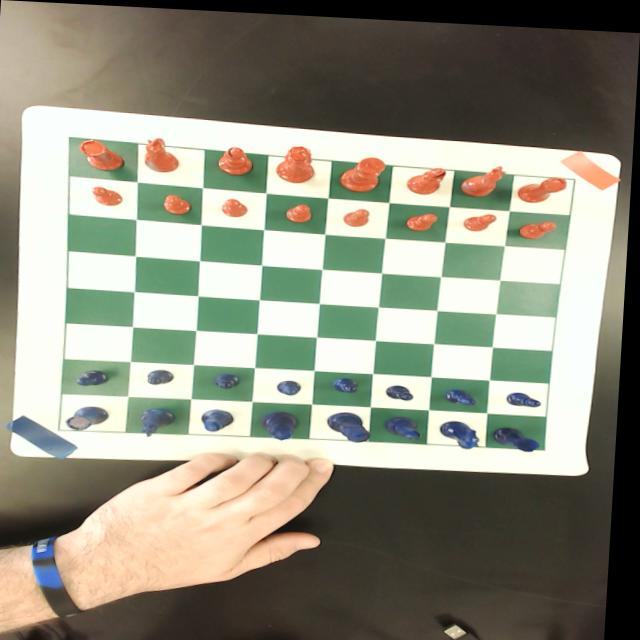B: (389, 411, 426, 437), (204, 407, 239, 430)
K: (330, 407, 376, 439)
N: (142, 406, 181, 438), (443, 415, 485, 444)
P: (334, 372, 365, 392), (80, 368, 113, 386), (510, 386, 546, 402), (449, 384, 482, 400), (389, 380, 420, 397), (215, 370, 245, 387), (150, 367, 179, 384), (279, 376, 307, 393)
Q: (264, 408, 303, 438)
R: (71, 404, 116, 434), (495, 420, 544, 447)
b: (408, 161, 447, 191), (218, 144, 255, 173)
cb: (63, 136, 576, 444)
k: (339, 152, 387, 190)
n: (462, 159, 509, 193), (143, 135, 183, 172)
p: (519, 215, 559, 234), (407, 207, 441, 228), (465, 207, 500, 227), (91, 185, 125, 205), (162, 192, 193, 213), (344, 204, 373, 224), (222, 196, 251, 215), (286, 200, 313, 220)
q: (276, 141, 318, 181)
r: (78, 137, 127, 170), (519, 169, 570, 199)
